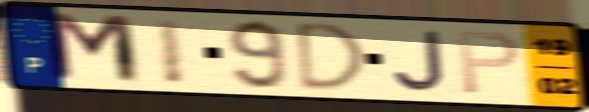9: (223, 17, 291, 93)
D: (295, 20, 370, 93)
I: (153, 16, 188, 87)
J: (389, 28, 449, 94)
M: (44, 10, 146, 87)
P: (455, 30, 523, 98)
